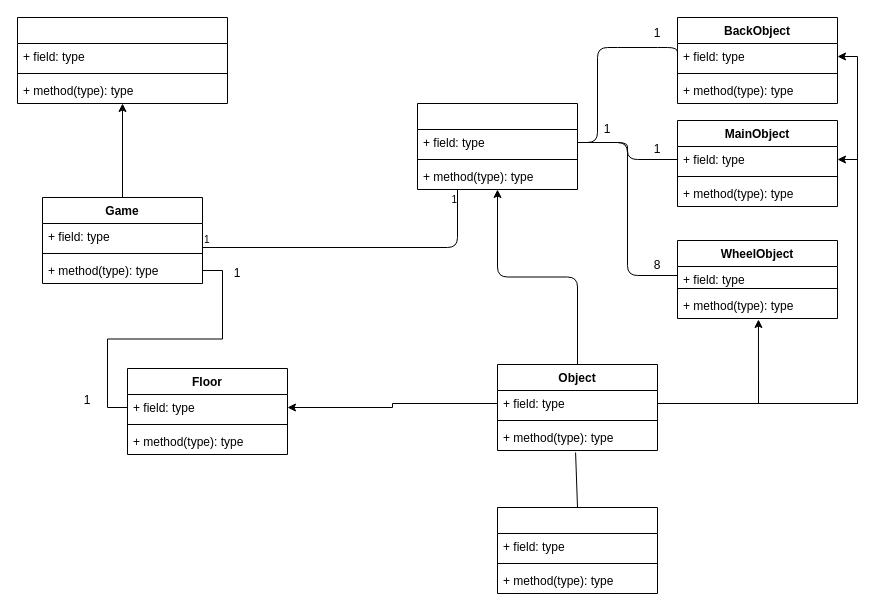
The diagram is 883 pixels wide and 614 high, and some of its shapes have lost their labels. The box of each missing label's shape, as (x1, y1, x2, y2) in pixels:
Body (abstract): (16, 16, 228, 104)
Model: (496, 506, 658, 594)
Truck: (416, 102, 578, 190)
